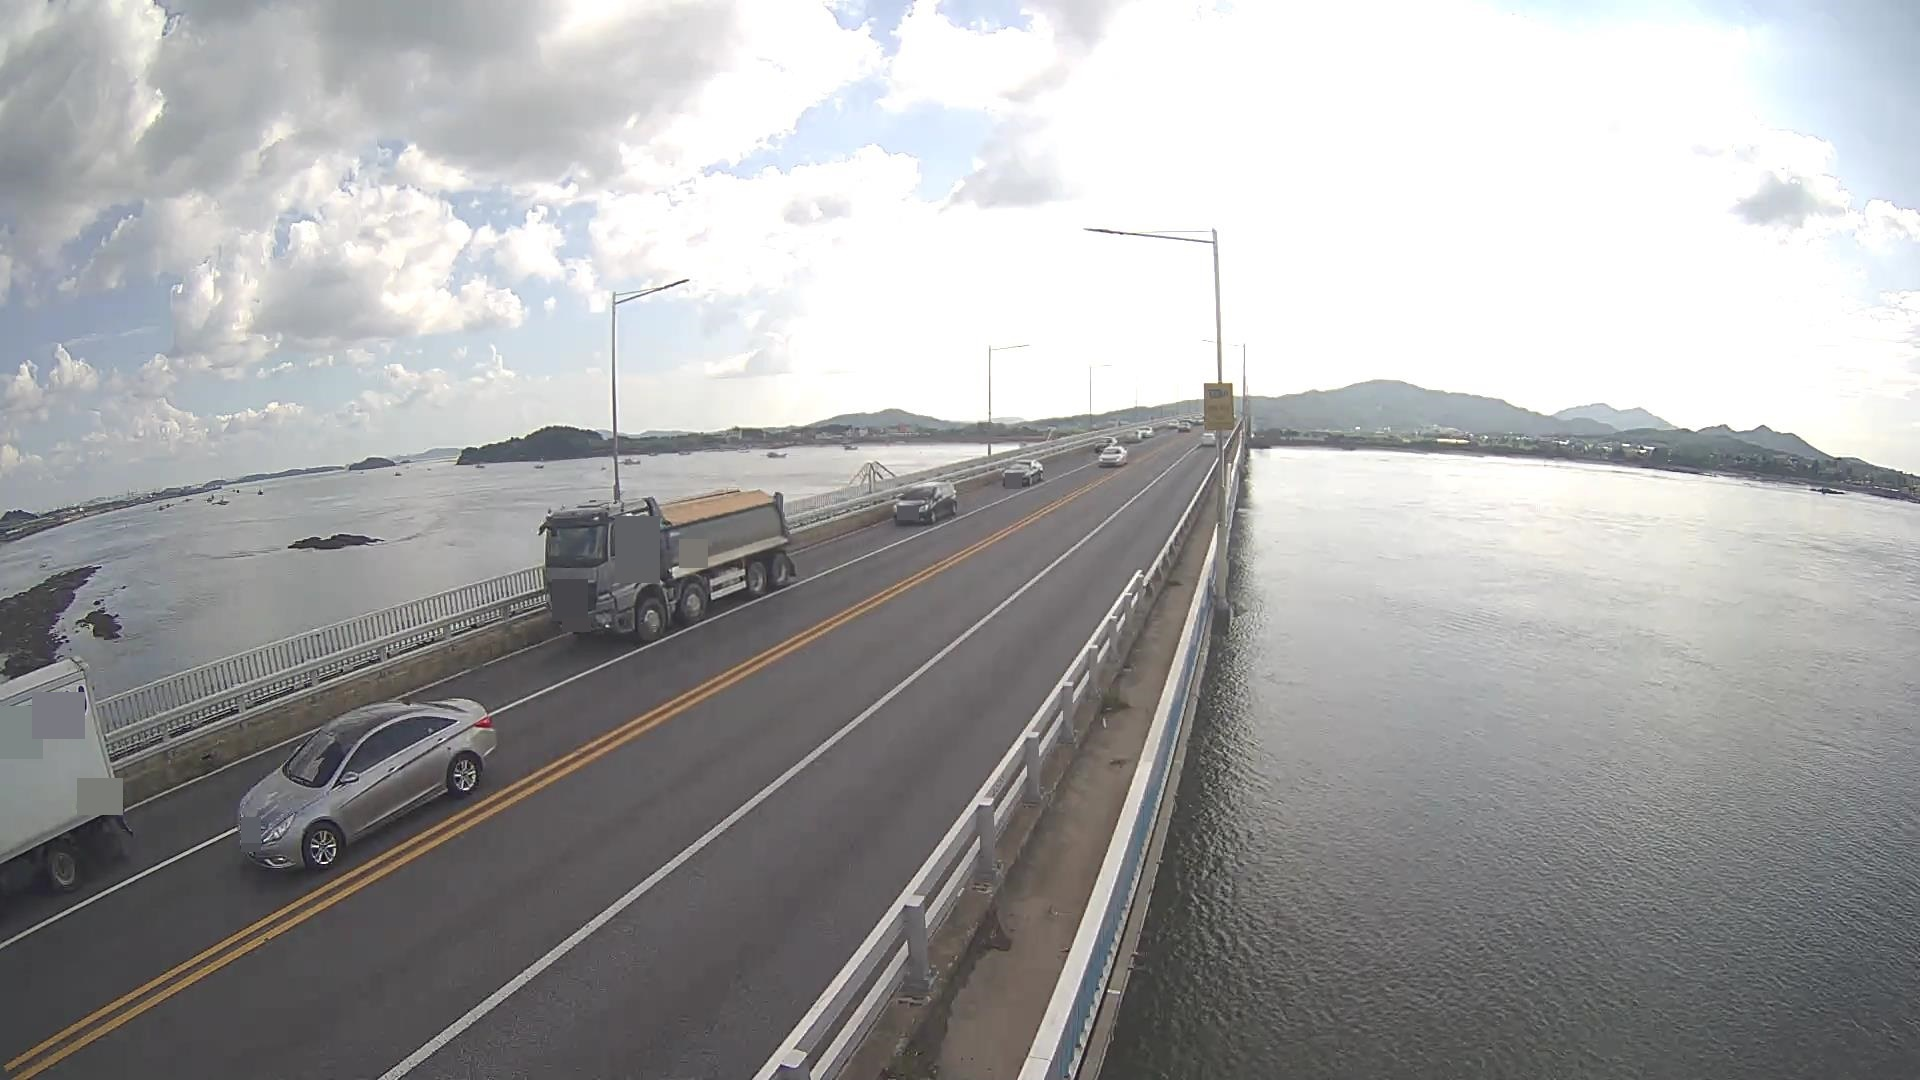정상차량: (539, 489, 796, 642)
